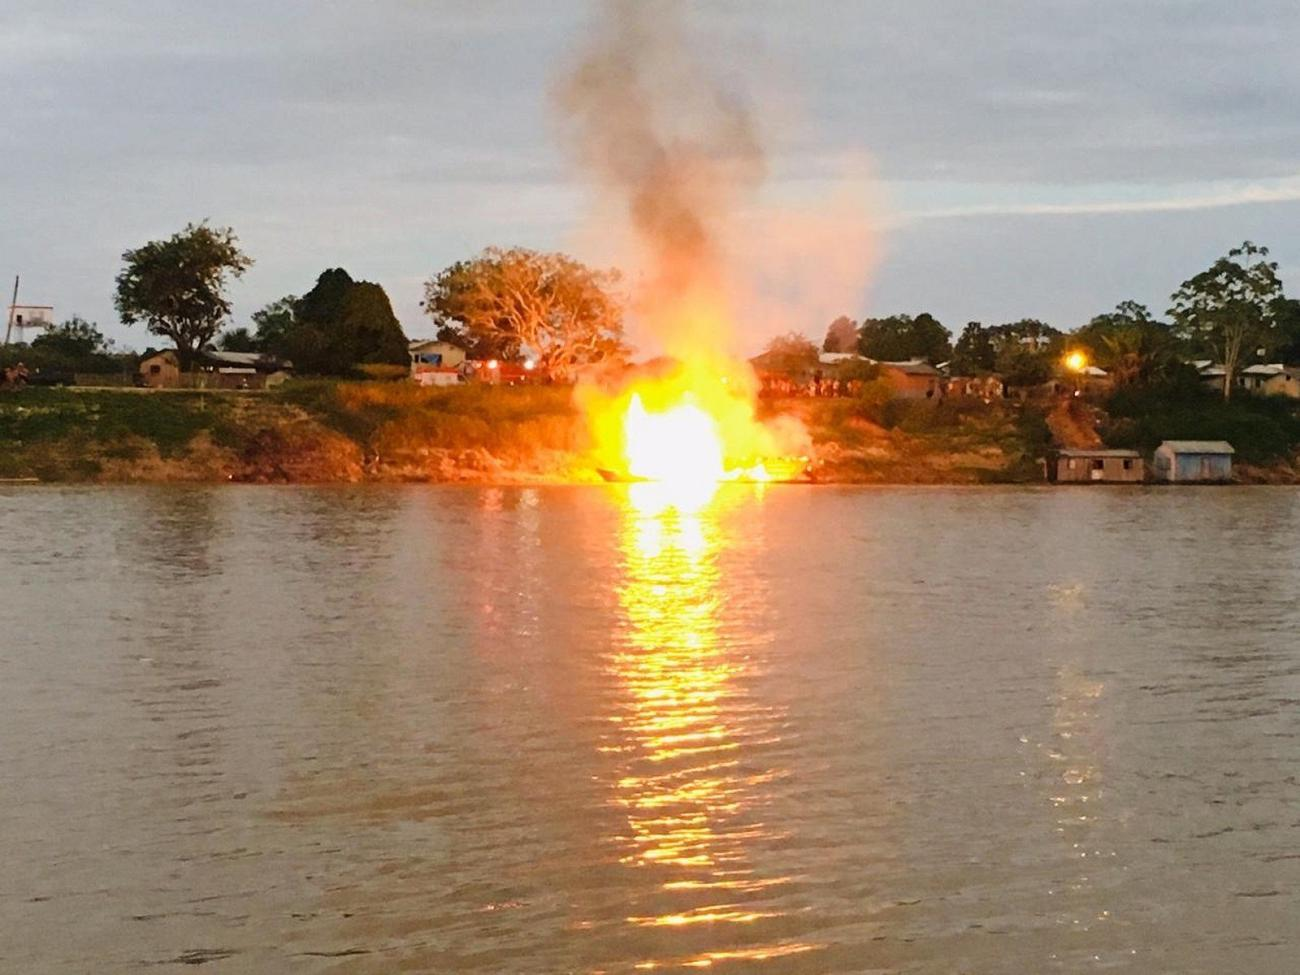Fire: (607, 382, 788, 485)
